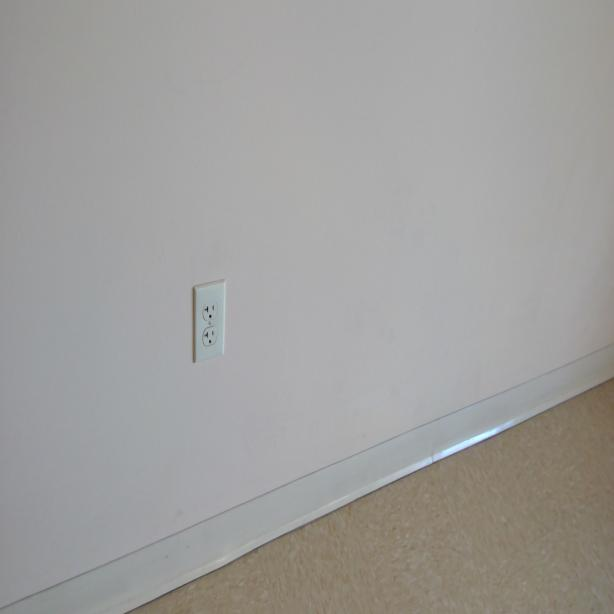typeb: (202, 299, 218, 321), (202, 327, 216, 345)
